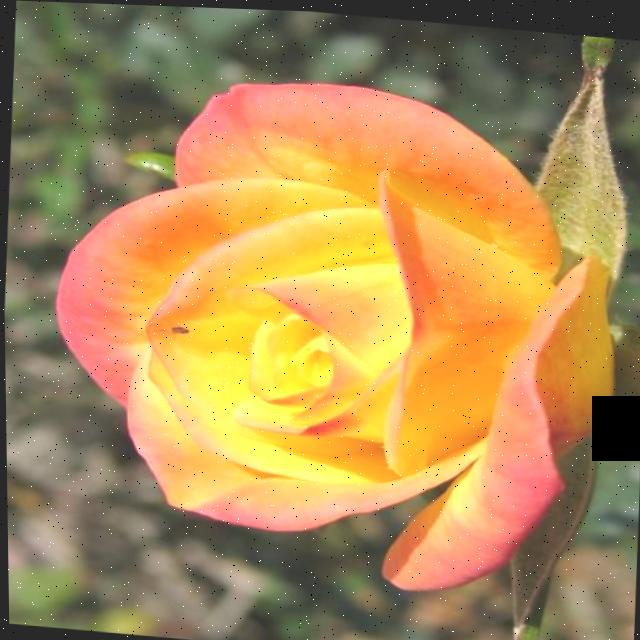rose: (32, 12, 640, 621)
